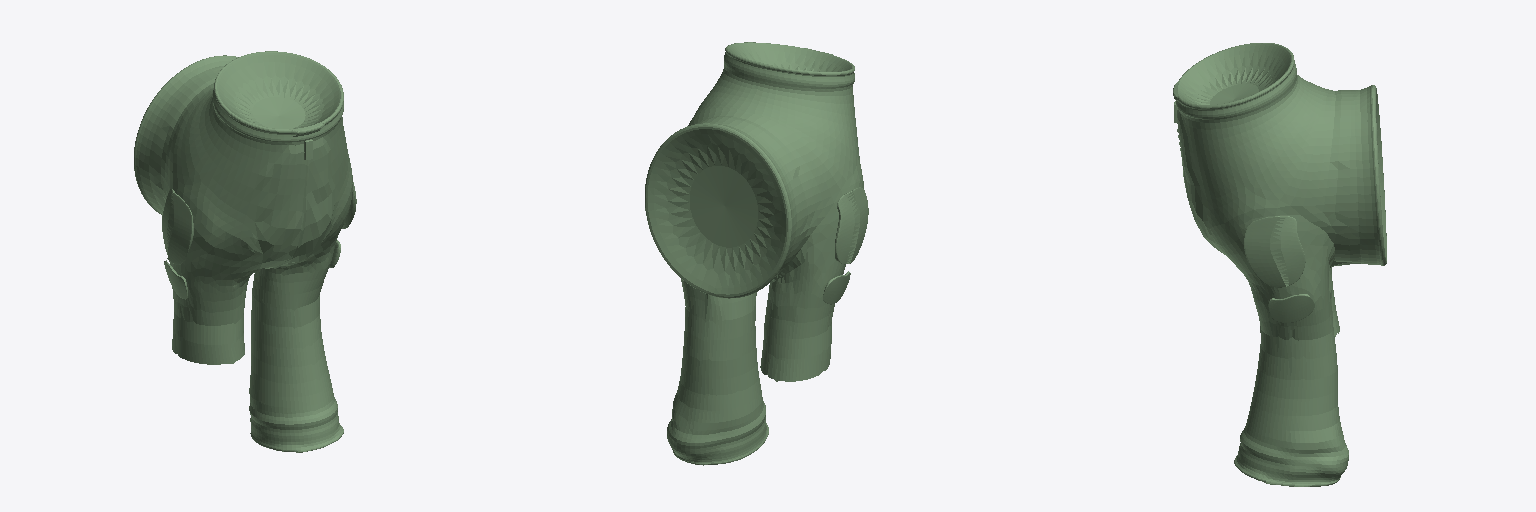
File: stablesuit2.obj
3 views of the same model, side by side, from view 1: azimuth 30°, elevation 25°; view 2: azimuth 150°, elevation 25°; view 3: azimuth 270°, elevation 25° (orthographic).
Parts seen in each view (by area): view 1: completesuit; view 2: completesuit; view 3: completesuit.
Boxes of the visible parts, <box> form: completesuit: <box>134,51,356,452</box>; completesuit: <box>645,42,868,465</box>; completesuit: <box>1173,43,1386,486</box>.
Bounding box in the file's own units: 13.61 × 29.16 × 14.34.